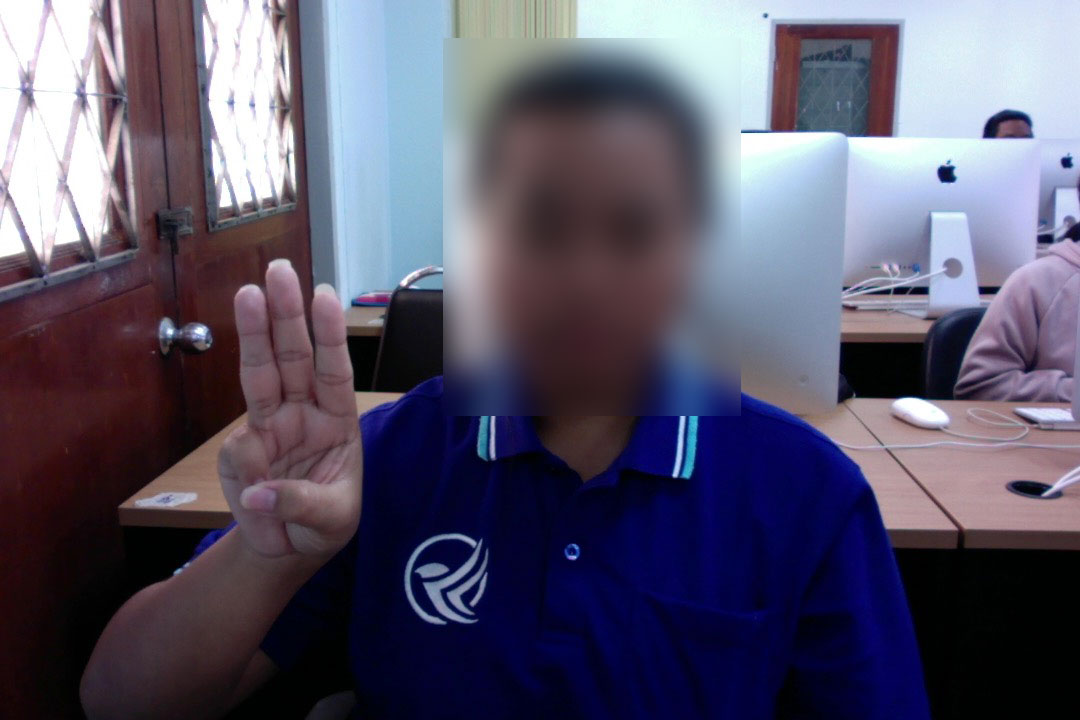wor: (198, 263, 385, 564)
